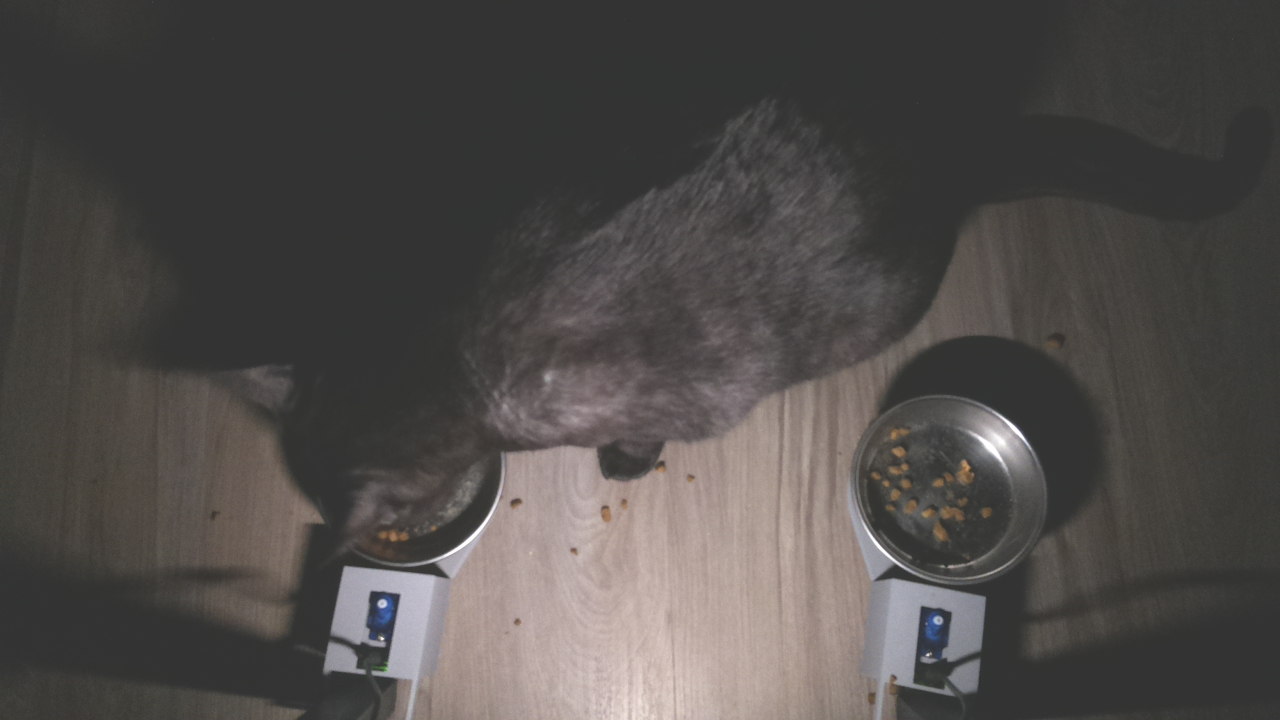open_bowl: (851, 394, 1050, 587)
saki_eating: (208, 319, 513, 589)
